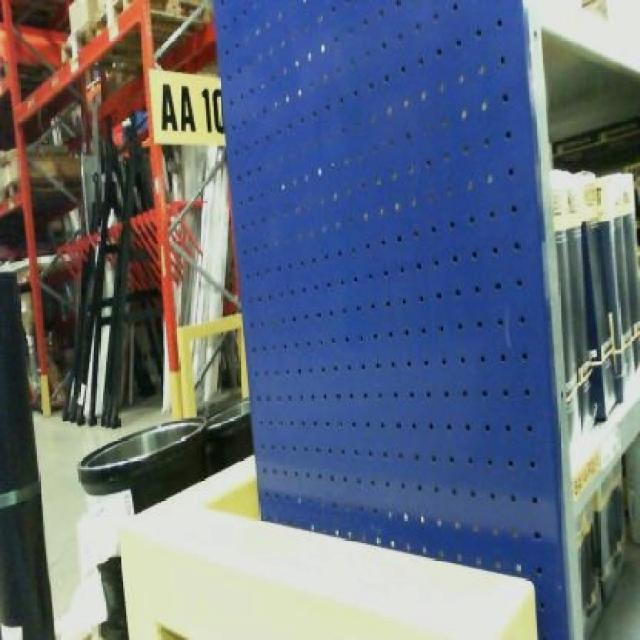pallets: (214, 0, 582, 637), (118, 455, 534, 637)
